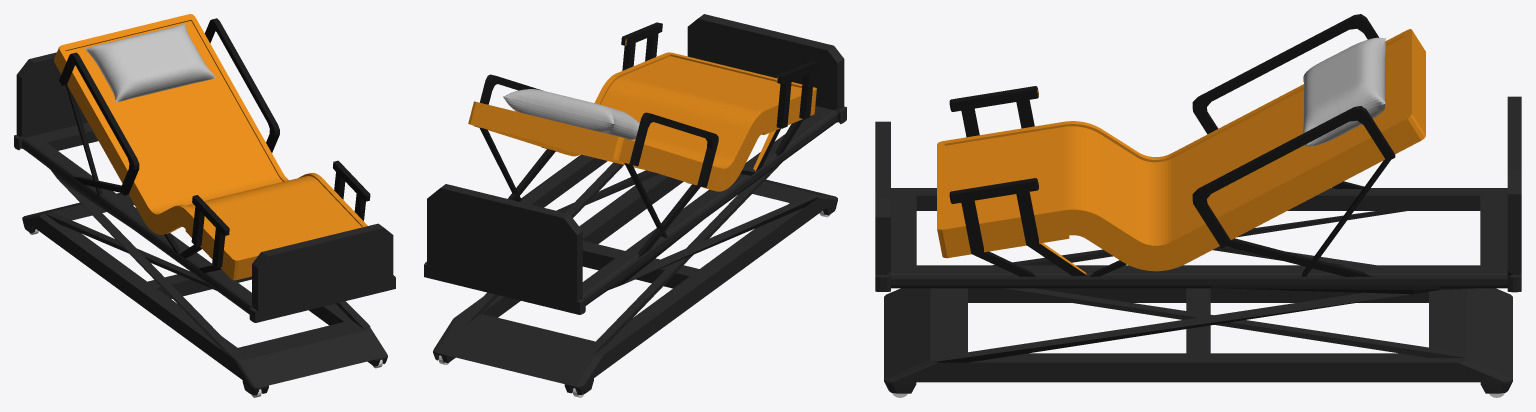
Rendered from Bed.fbx.
The picture shows the model from 3 angles, left to right: view 1: azimuth 30°, elevation 25°; view 2: azimuth 150°, elevation 25°; view 3: azimuth 270°, elevation 25°; orthographic projection. The views are drawn at different scales.
Visible parts, largest first — view 1: Plane, Cube, Plane.001; view 2: Cube, Plane, Plane.001; view 3: Cube, Plane, Plane.001.
Boxes of the visible parts, <box> form: Plane: <box>54,14,370,280</box>; Cube: <box>14,52,395,395</box>; Plane.001: <box>85,24,215,102</box>; Cube: <box>424,14,846,394</box>; Plane: <box>468,22,818,257</box>; Plane.001: <box>503,89,647,140</box>; Cube: <box>875,96,1521,393</box>; Plane: <box>937,14,1425,276</box>; Plane.001: <box>1303,37,1385,146</box>.
Size of the model in its own units: 215 by 311 by 616.
